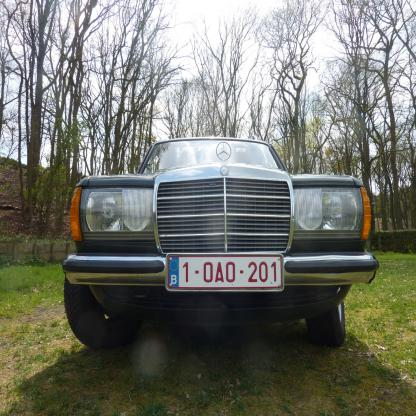Car: (62, 137, 378, 349)
